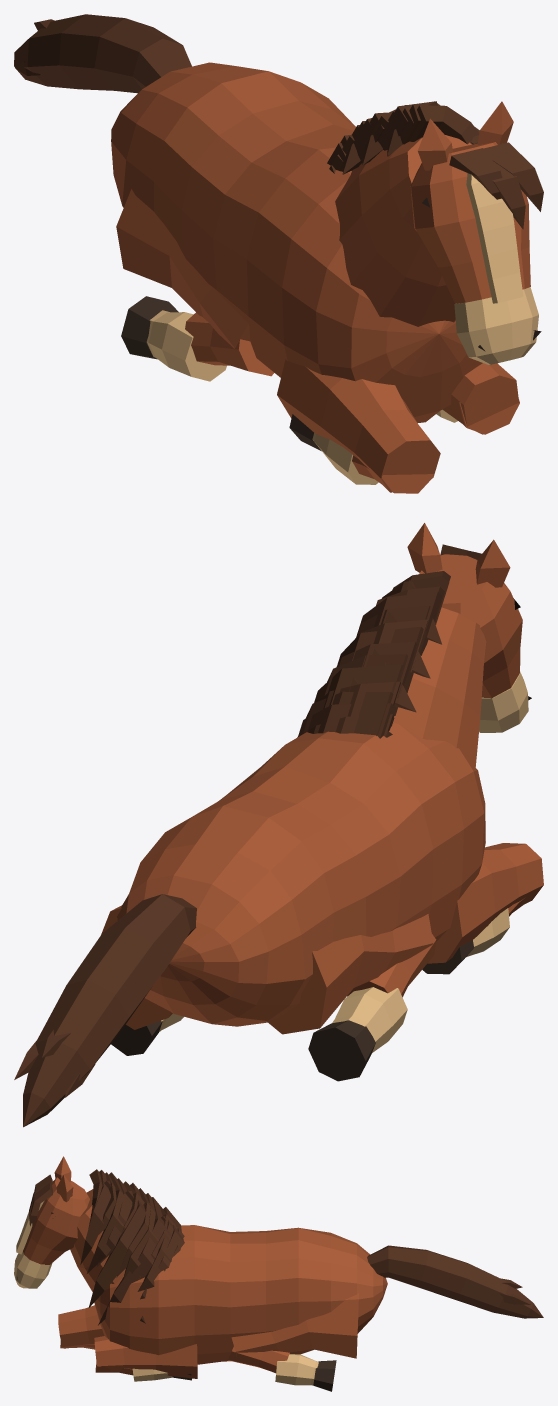
Rendered from rest.glb.
3 renders of one model, top to bottom at view 1: azimuth 30°, elevation 25°; view 2: azimuth 150°, elevation 25°; view 3: azimuth 270°, elevation 25°, orthographic. The views are drawn at different scales.
Visible parts, largest first — view 1: body, neck, leg_fr_upper, tail, head, leg_hr_upper, mane, muzzle, blaze, forelock, leg_fl_upper, leg_hr_sock (+7 smaller); view 2: body, tail, mane, neck, leg_hr_upper, head, leg_fr_upper, leg_hr_hoof, leg_hr_sock, muzzle, leg_hr_lower, ear_l (+4 smaller); view 3: body, mane, tail, leg_hl_upper, head, leg_fl_upper, leg_fr_upper, neck, leg_hl_sock, muzzle, leg_hl_lower, forelock (+4 smaller).
Part boxes in pixels (x1,y1,x2,y2): body: (111,62,482,422); neck: (335,135,471,326); leg_fr_upper: (277,359,440,492); tail: (14,14,191,93); head: (410,142,530,303); leg_hr_upper: (116,189,250,348); mane: (327,101,479,174); muzzle: (454,287,538,364); blaze: (466,173,523,303); forelock: (449,142,543,229); leg_fl_upper: (442,363,518,434); leg_hr_sock: (146,310,226,381); body: (117,723,485,1026); tail: (14,894,196,1127); mane: (297,571,450,738); neck: (393,607,486,768); leg_hr_upper: (267,914,433,1034); head: (419,554,522,698); leg_fr_upper: (427,843,543,963); leg_hr_hoof: (308,1020,375,1081); leg_hr_sock: (332,987,407,1052); muzzle: (479,671,528,732); leg_hr_lower: (347,933,436,997); ear_l: (407,523,442,573); body: (94,1225,387,1364); mane: (80,1169,184,1325); tail: (367,1245,543,1318); leg_hl_upper: (231,1293,358,1358); head: (23,1177,89,1264); leg_fl_upper: (94,1336,197,1378); leg_fr_upper: (58,1305,104,1348); neck: (70,1189,125,1291); leg_hl_sock: (275,1354,318,1385); muzzle: (14,1251,52,1288); leg_hl_lower: (228,1346,289,1373); forelock: (29,1174,52,1226).
Size of the model in its own units: 0.8664 by 1.3 by 3.03.
